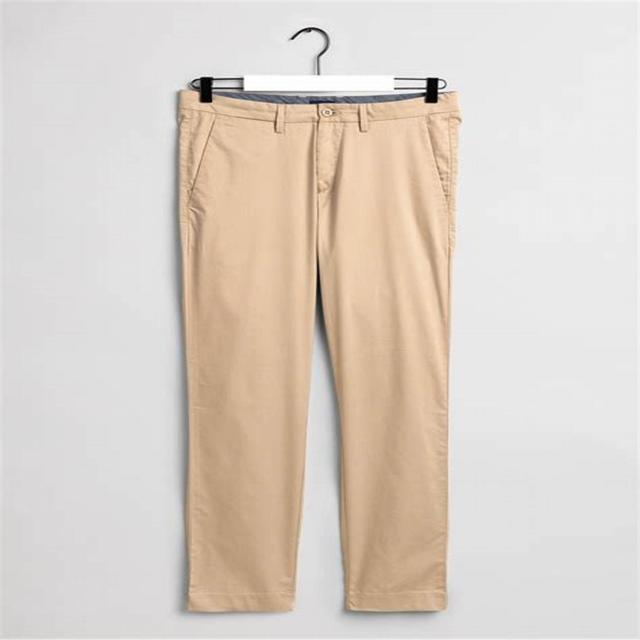long-pants: (175, 86, 462, 614)
